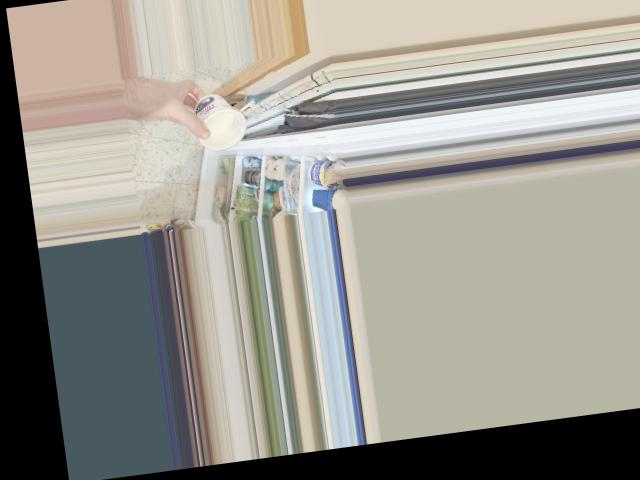cotage: (187, 87, 249, 153)
